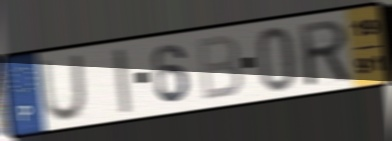0: (255, 24, 299, 94)
6: (150, 44, 192, 105)
B: (195, 33, 245, 104)
I: (111, 46, 134, 117)
R: (296, 16, 353, 89)
U: (38, 52, 88, 124)
